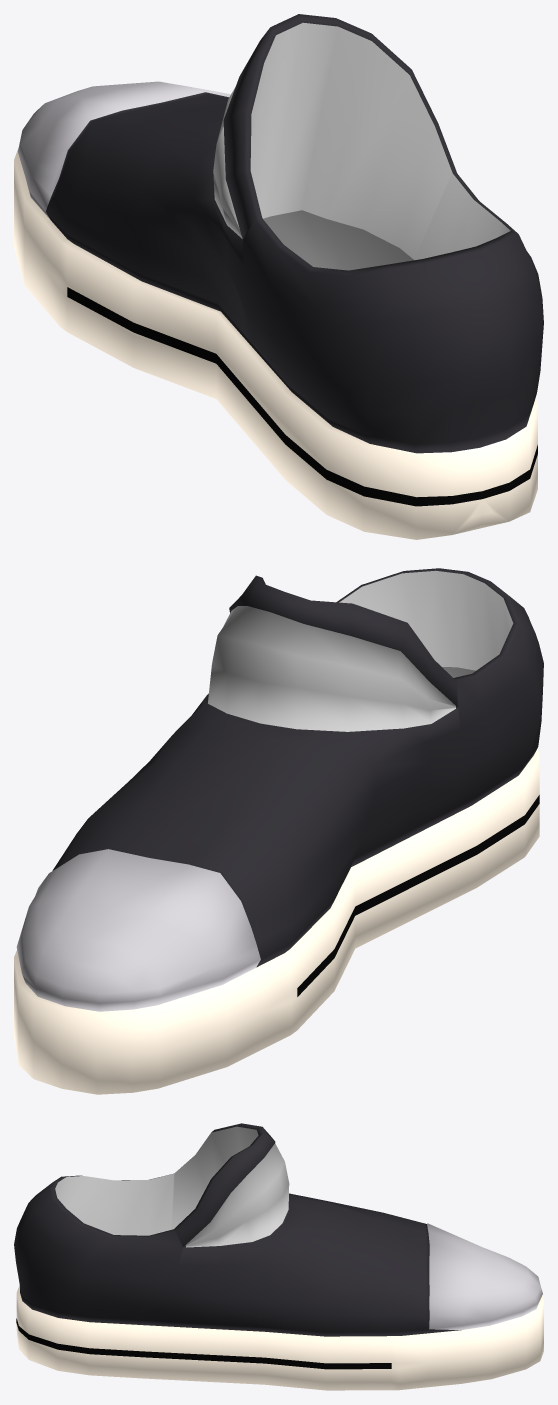
File: Sneakers.fbx
3 renders of one model, top to bottom at view 1: azimuth 30°, elevation 25°; view 2: azimuth 150°, elevation 25°; view 3: azimuth 270°, elevation 25°, orthographic. The views are drawn at different scales.
Visible parts, largest first — view 1: Sneakers; view 2: Sneakers; view 3: Sneakers.
Part boxes in pixels (left/top/right/bottom): Sneakers: left=14, top=14, right=543, bottom=539; Sneakers: left=14, top=568, right=543, bottom=1094; Sneakers: left=14, top=1123, right=543, bottom=1390.
Bounding box in the file's own units: 104 × 139 × 306.
